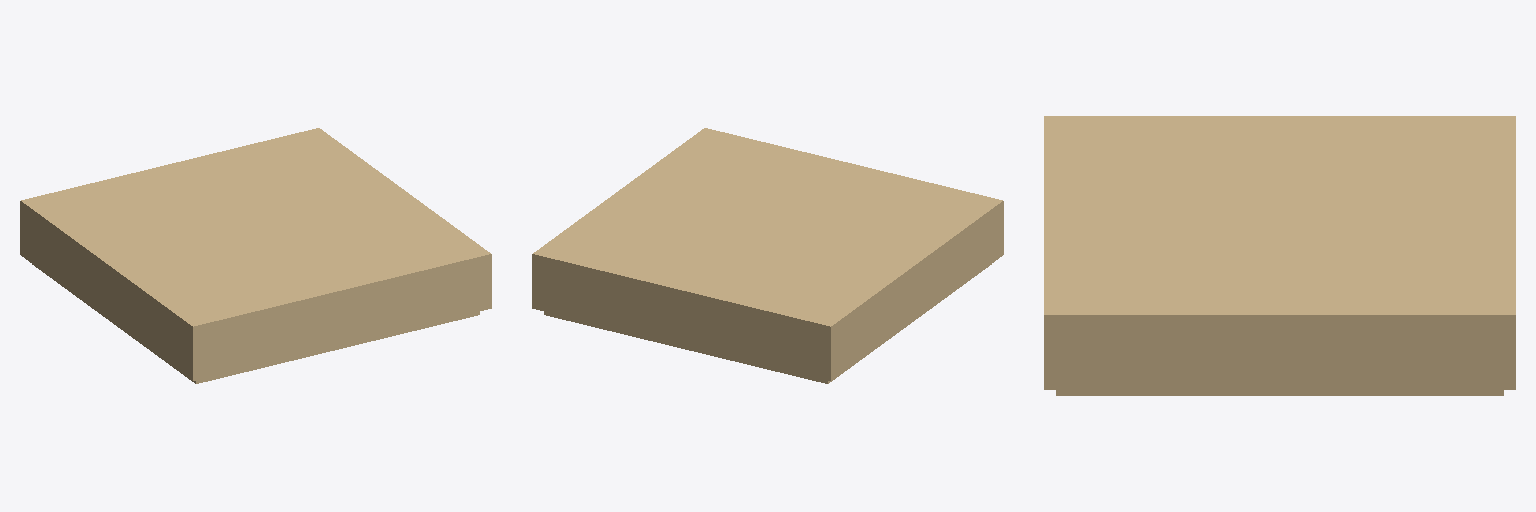
robot.urdf — 3068__tan:
<?xml version="1.0"?>
<robot name="3068__tan">
  <link name="3068__tan">
    <inertial>
      <origin xyz="-0.000000 -0.000000 -0.001591" rpy="0 0 0"/>
      <mass value="0.000855"/>
      <inertia ixx="1.885441186e-08" ixy="7.659931877e-43" ixz="5.050635341e-26" iyy="1.885441186e-08" iyz="2.878727356e-26" izz="3.626377789e-08"/>
    </inertial>
    <visual>
      <geometry>
        <mesh filename="../meshes/visual/3068.obj" scale="1 1 1"/>
      </geometry>
      <material name="3068__tan_color">
        <color rgba="0.860 0.770 0.610 1.000"/>
      </material>
    </visual>
    <collision>
      <geometry>
        <mesh filename="../meshes/collision/3068_hull.obj" scale="1 1 1"/>
      </geometry>
    </collision>
  </link>
</robot>

--- Render facts (derived) ---
Views: 3 orthographic renders of the robot side by side, from view 1: azimuth 30°, elevation 25°; view 2: azimuth 150°, elevation 25°; view 3: azimuth 270°, elevation 25°.
Robot: 3068__tan — 1 links, 0 joints (none); root link 3068__tan; default pose: every joint at zero.
Links seen in each view (by area): view 1: 3068__tan; view 2: 3068__tan; view 3: 3068__tan.
Boxes of the visible links, x1,y1,x2,y2 form: 3068__tan: [20, 128, 491, 383]; 3068__tan: [532, 128, 1003, 383]; 3068__tan: [1044, 116, 1515, 395].
Bounding box of the posed robot: 0.016 × 0.016 × 0.0032 m (x, y, z).
1 mesh visuals loaded from 1 distinct referenced files (1 OBJ).
